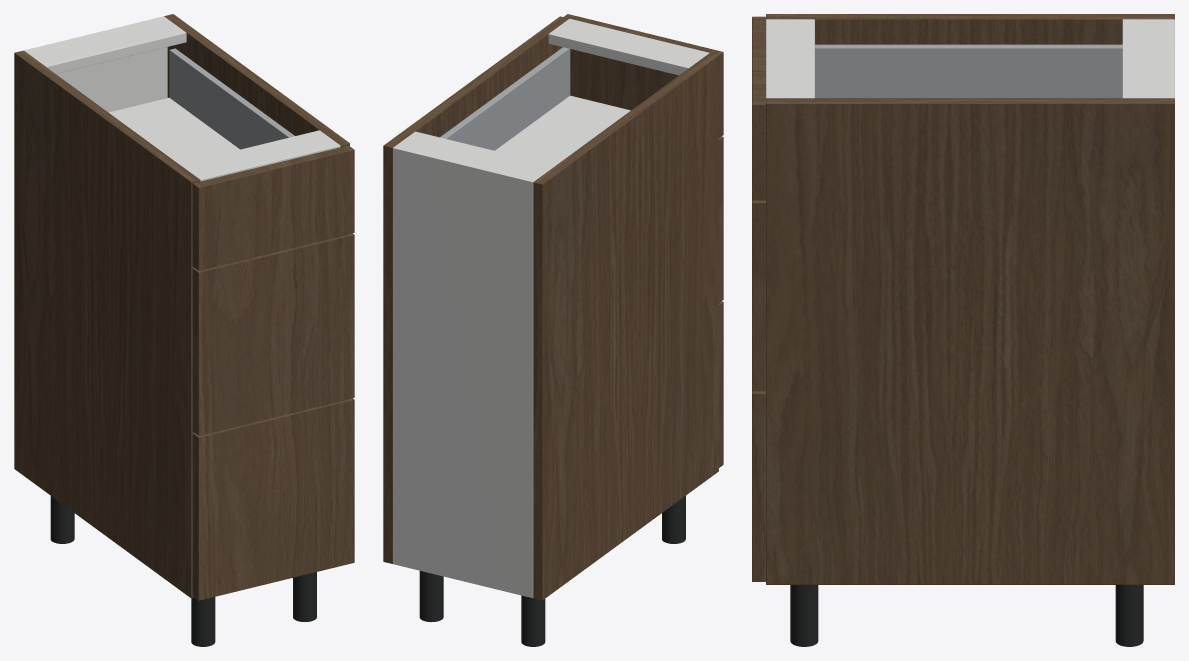
The model's file is oppein-pb-mso-3db12.glb.
3 views of the same model, side by side, from view 1: azimuth 30°, elevation 25°; view 2: azimuth 150°, elevation 25°; view 3: azimuth 270°, elevation 25° (orthographic). The views are drawn at different scales.
Visible parts, largest first — view 1: Cabinet side, Drawer front, Drawer front.001, Drawer front.002, Drawer side.005, Cabinet back, Cabinet side.001, Drawer floor.002, Top support rail, Top support rail.001, Adjustable foot.001, Adjustable foot.003 (+1 smaller); view 2: Cabinet side, Cabinet back, Cabinet side.001, Drawer side.005, Drawer front.002, Drawer floor.002, Top support rail.001, Top support rail, Adjustable foot, Adjustable foot.002, Adjustable foot.001, Drawer front.001 (+1 smaller); view 3: Cabinet side.001, Drawer side.004, Cabinet side, Top support rail.001, Top support rail, Drawer front.001, Drawer front, Drawer front.002, Adjustable foot.002, Adjustable foot.003, Cabinet back.
Part boxes in pixels (x1,y1,x2,y2): Cabinet side: (14,50,200,598); Drawer front: (192,398,354,600); Drawer front.001: (192,233,354,435); Drawer front.002: (192,145,354,270); Drawer side.005: (169,48,294,149); Cabinet back: (24,16,167,112); Cabinet side.001: (164,14,349,146); Drawer floor.002: (108,97,239,164); Top support rail: (25,18,186,73); Top support rail.001: (179,130,340,181); Adjustable foot.001: (191,597,215,646); Adjustable foot.003: (293,572,316,621); Cabinet side: (533,53,718,600); Cabinet back: (393,145,535,597); Cabinet side.001: (383,16,568,563); Drawer side.005: (440,47,570,150); Drawer front.002: (564,14,723,137); Drawer floor.002: (495,95,630,165); Top support rail.001: (548,18,709,75); Top support rail: (396,131,554,179); Adjustable foot: (521,595,545,646); Adjustable foot.002: (419,571,443,622); Adjustable foot.001: (662,496,685,543); Drawer front.001: (719,136,723,302); Cabinet side.001: (766,98,1174,584); Drawer side.004: (815,44,1122,98); Cabinet side: (766,14,1174,44); Top support rail.001: (766,19,814,98); Top support rail: (1122,19,1166,98); Drawer front.001: (752,200,765,391); Drawer front: (752,391,765,581); Drawer front.002: (752,16,765,200); Adjustable foot.002: (1115,585,1143,646); Adjustable foot.003: (790,585,818,646); Cabinet back: (1167,19,1174,98).
Bounding box in the file's own units: 0.3048 × 0.8763 × 0.6064.
4 materials, 1 textured.
